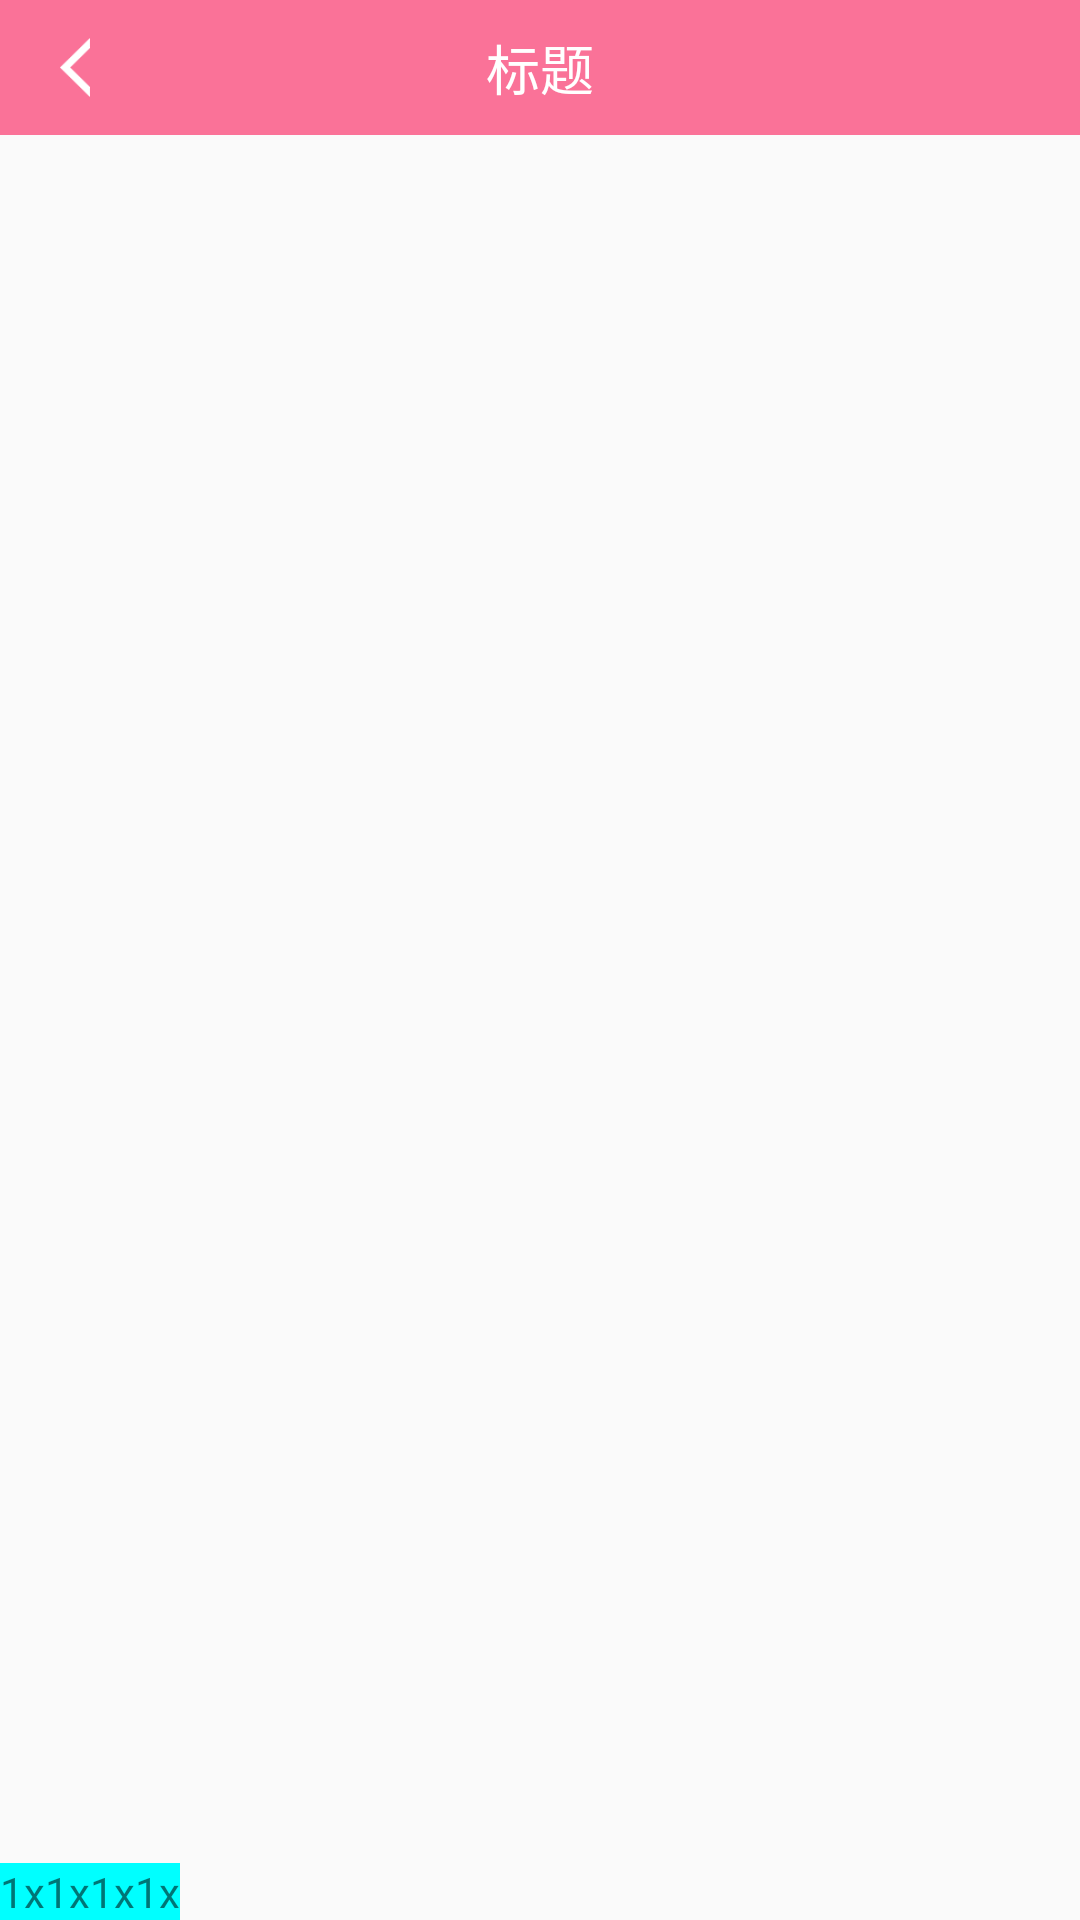

Locate icon controls on the screen. Image size 1080 x 1920, boxes as (x1, y1, x2, y2).
back: (60, 38, 90, 97)
